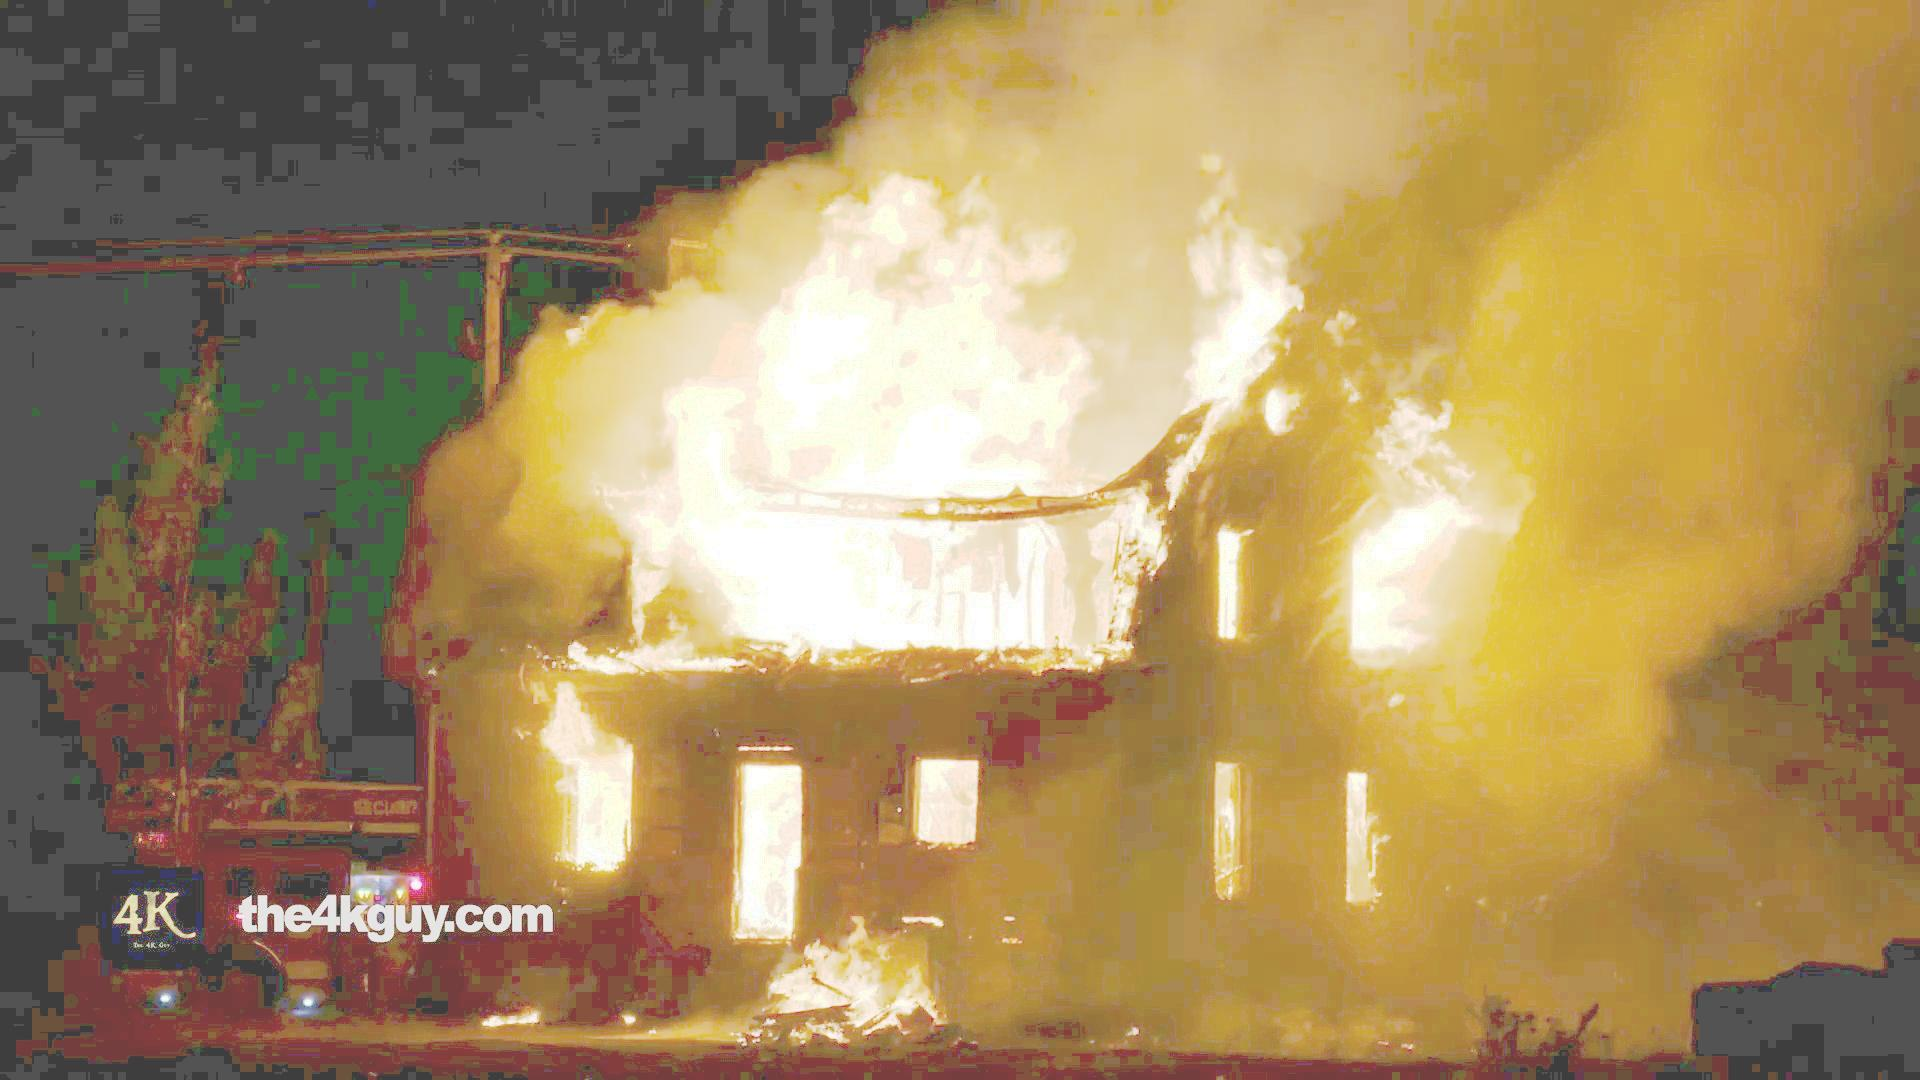fire: (583, 175, 1116, 673), (1317, 429, 1535, 687), (1149, 190, 1313, 443), (546, 686, 655, 862), (721, 775, 806, 939)
